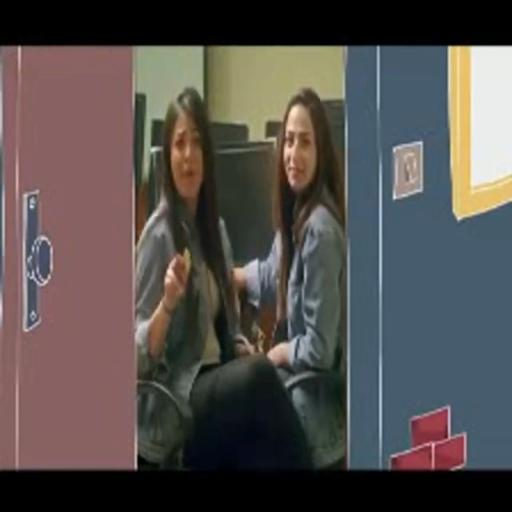nao-violencia: (136, 68, 348, 469)
